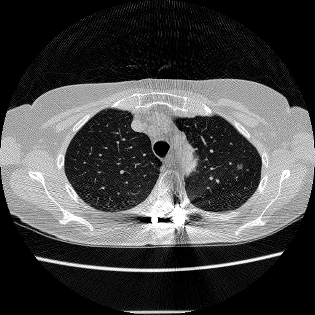nodule: (238, 164, 242, 168)
